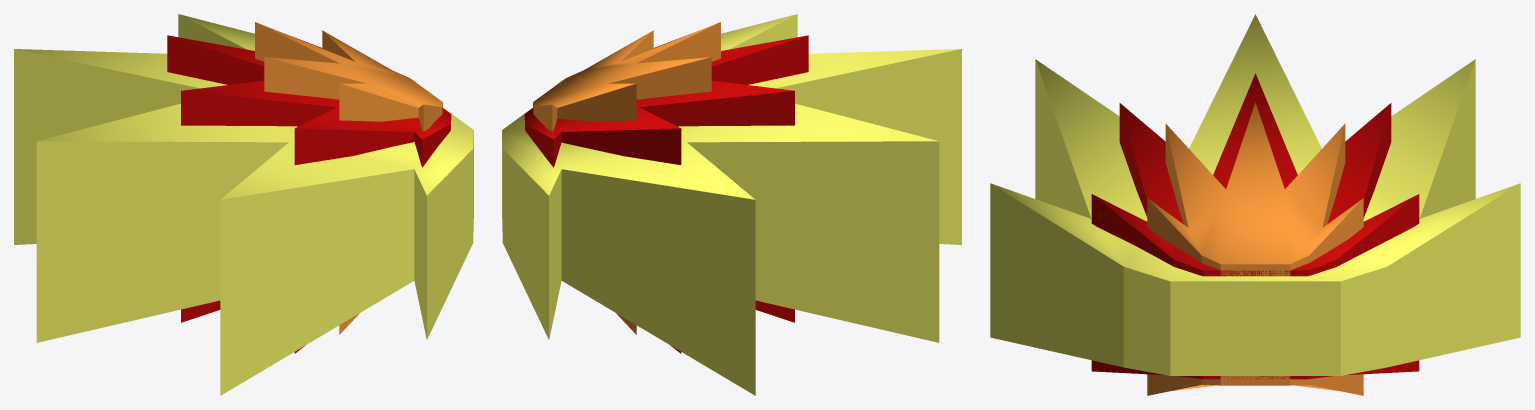
Rendered from Explosion.DAE.
3 views of the same model, side by side, from view 1: azimuth 30°, elevation 25°; view 2: azimuth 150°, elevation 25°; view 3: azimuth 270°, elevation 25° (orthographic). The views are drawn at different scales.
Parts seen in each view (by area): view 1: ov3d_Explosion; view 2: ov3d_Explosion; view 3: ov3d_Explosion.
Part boxes in pixels (<box>): ov3d_Explosion: <box>14,14,473,395</box>; ov3d_Explosion: <box>502,14,961,395</box>; ov3d_Explosion: <box>990,14,1520,395</box>.
Size of the model in its own units: 1729 by 1076 by 1872.
Materials: 1 (1 with a texture image).
